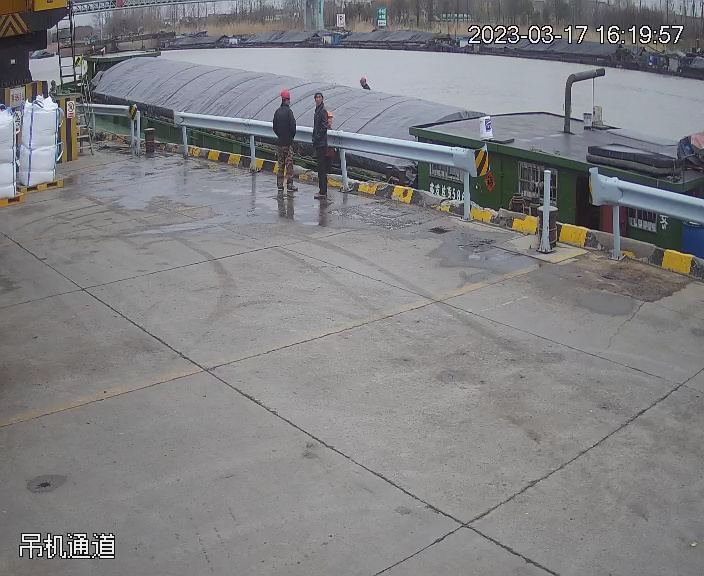head: (272, 87, 297, 121), (311, 90, 330, 122)
helmet: (277, 86, 294, 99), (359, 75, 367, 85)
people: (271, 85, 301, 193), (310, 90, 332, 204)
